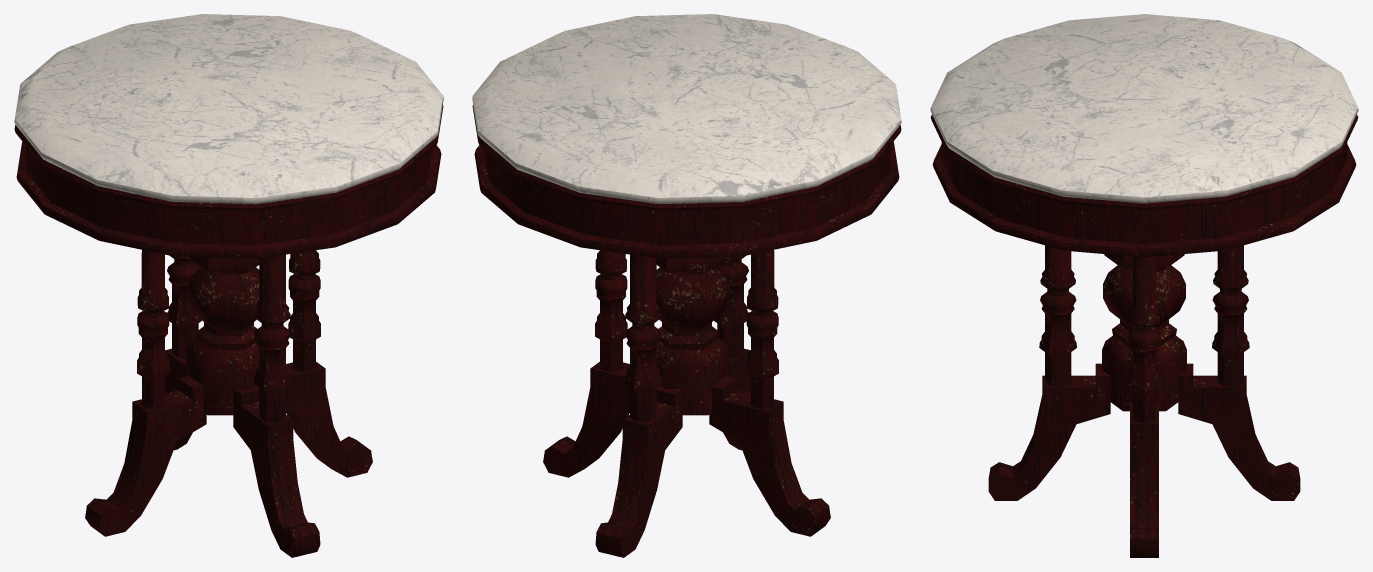
Rendered from round table.FBX.
3 views of the same model, side by side, from view 1: azimuth 30°, elevation 25°; view 2: azimuth 150°, elevation 25°; view 3: azimuth 270°, elevation 25° (orthographic).
Parts seen in each view (by area): view 1: round table_lp; view 2: round table_lp; view 3: round table_lp.
Boxes of the visible parts, x1,y1,x2,y2 form: round table_lp: [14, 14, 443, 557]; round table_lp: [472, 14, 901, 557]; round table_lp: [930, 14, 1358, 557].
Bounding box in the file's own units: 74.46 × 76.18 × 74.46.
Materials: 1 (1 with a texture image).
